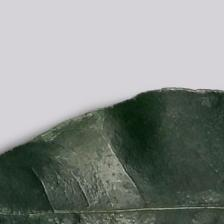healthy: (14, 80, 224, 224)
